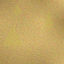structure: (2, 24, 22, 45), (43, 8, 54, 28), (11, 3, 22, 14)
